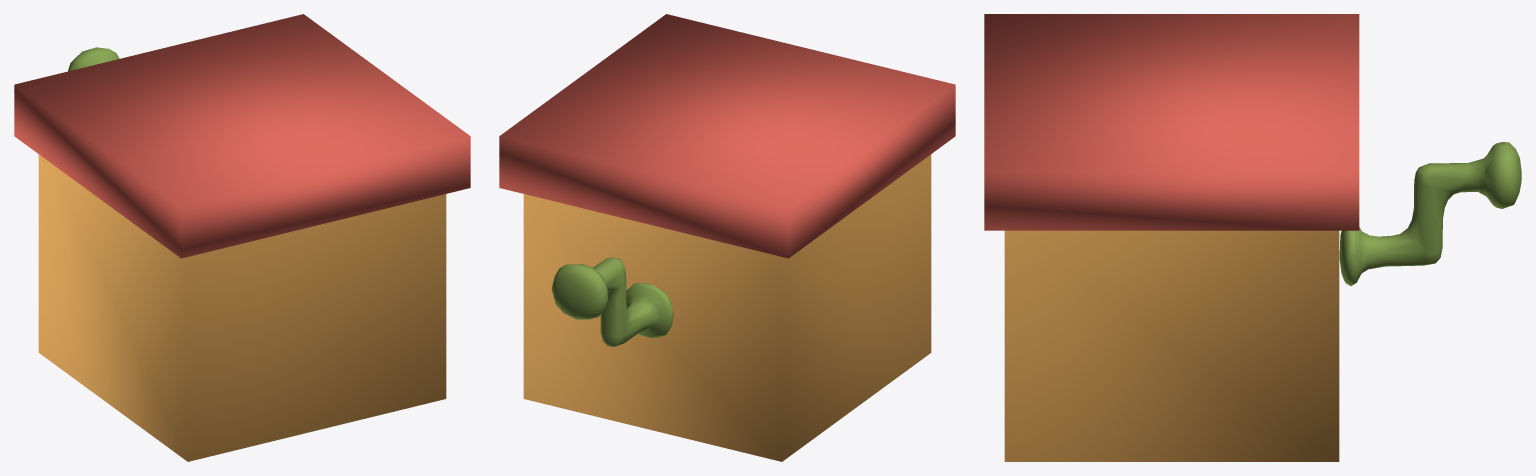
File: jackinthebox.gltf
3 renders of one model, left to right at view 1: azimuth 30°, elevation 25°; view 2: azimuth 150°, elevation 25°; view 3: azimuth 270°, elevation 25°, orthographic. The views are drawn at different scales.
Parts seen in each view (by area): view 1: jack-in-the-box, jack-in-the-box-handle; view 2: jack-in-the-box, jack-in-the-box-handle; view 3: jack-in-the-box, jack-in-the-box-handle.
Part boxes in pixels (x1,y1,x2,y2): jack-in-the-box: (14, 14, 470, 461); jack-in-the-box-handle: (68, 47, 119, 71); jack-in-the-box: (499, 14, 955, 461); jack-in-the-box-handle: (551, 257, 673, 346); jack-in-the-box: (984, 14, 1359, 461); jack-in-the-box-handle: (1339, 142, 1521, 285).
Size of the model in its own units: 2.24 by 1.96 by 3.21.
